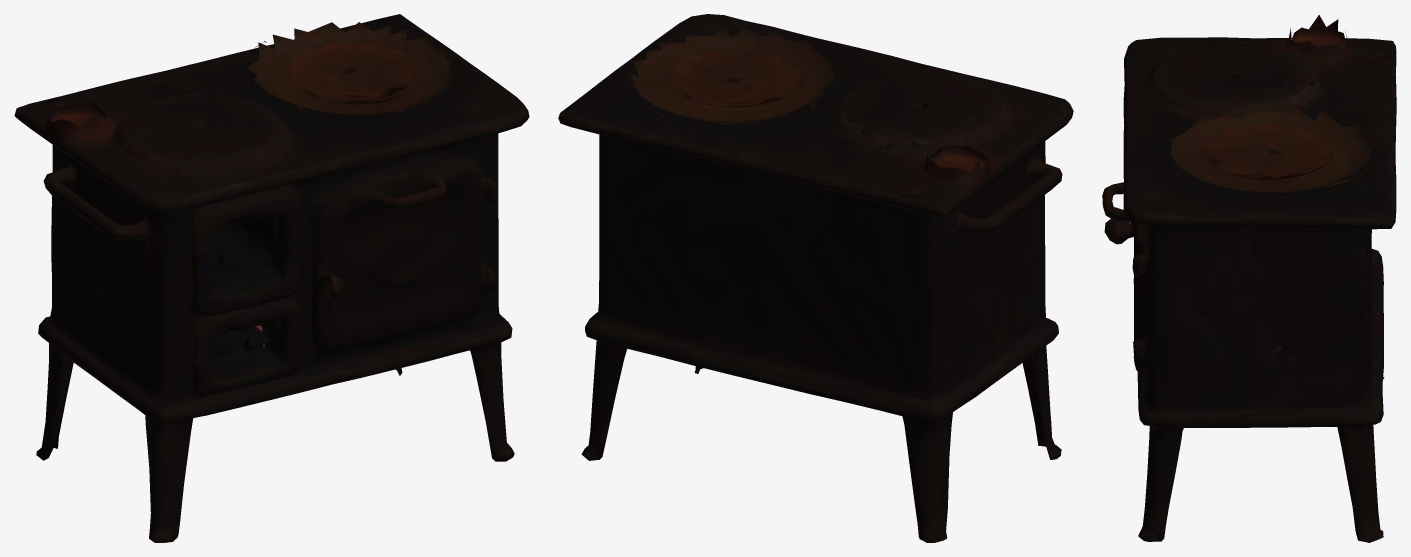
The model's file is cocina_rustica.glb.
3 views of the same model, side by side, from view 1: azimuth 30°, elevation 25°; view 2: azimuth 150°, elevation 25°; view 3: azimuth 270°, elevation 25° (orthographic). The views are drawn at different scales.
Visible parts, largest first — view 1: geometry_0; view 2: geometry_0; view 3: geometry_0.
Boxes of the visible parts, bbox=[...] form: geometry_0: bbox=[14, 14, 529, 542]; geometry_0: bbox=[558, 14, 1073, 542]; geometry_0: bbox=[1102, 15, 1396, 542].
Size of the model in its own units: 0.9 by 0.8 by 0.6.
1 material, 1 textured.
